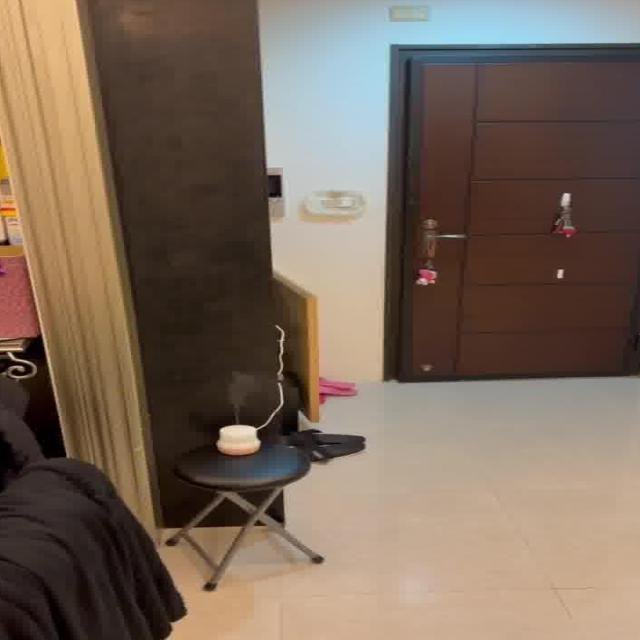fire: (215, 371, 264, 414)
